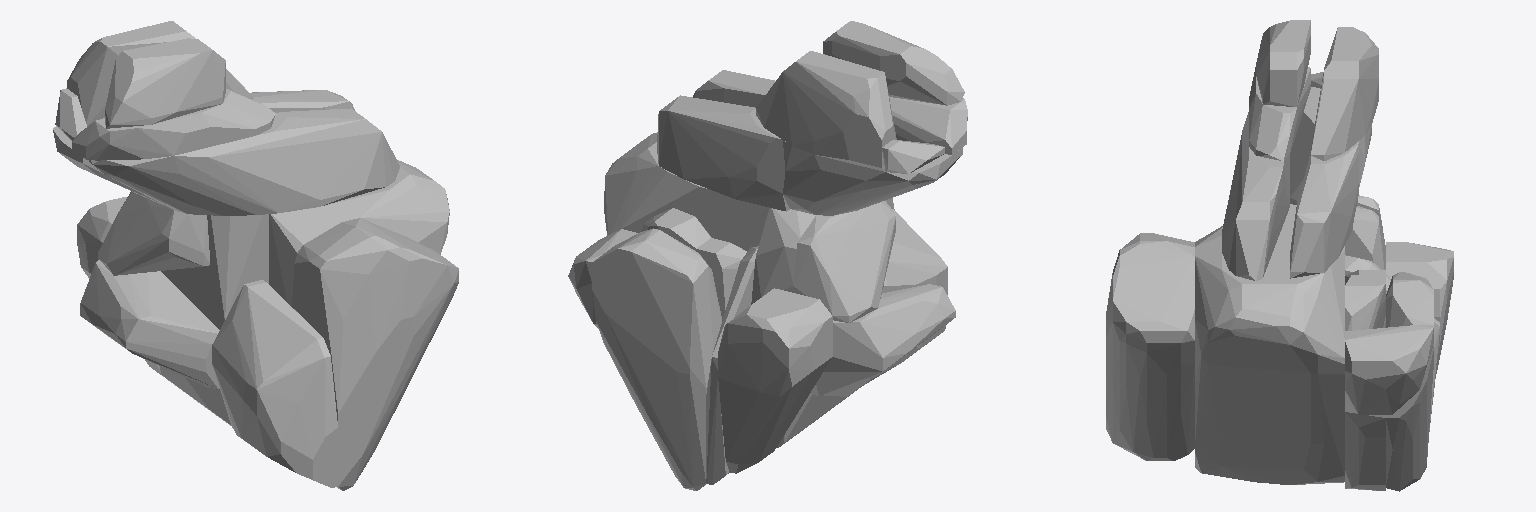
URDF robot description (root):
<robot name="root">
  <link name="link_part3_convex_piece_0">
    <inertial>
      <origin rpy="0 0 0" xyz="0 0 0"/>
      <mass value="3.71E-06"/>
      <inertia ixx="3.64E-09" ixy="6.95E-10" ixz="7.77E-10" iyy="2.02E-09" iyz="1.86E-09" izz="2.27E-09"/>
    </inertial>
    <visual>
      <origin rpy="0 0 0" xyz="0 0 0"/>
      <geometry>
        <mesh filename="part3_convex_piece_0.obj" scale="1.0000E+00"/>
      </geometry>
      <material name="">
        <color rgba="7.50E-01 7.50E-01 7.50E-01 1"/>
      </material>
    </visual>
    <collision>
      <origin rpy="0 0 0" xyz="0 0 0"/>
      <geometry>
        <mesh filename="part3_convex_piece_0.obj" scale="1.0000E+00"/>
      </geometry>
    </collision>
  </link>
  <link name="link_part3_convex_piece_1">
    <inertial>
      <origin rpy="0 0 0" xyz="0 0 0"/>
      <mass value="7.82E-06"/>
      <inertia ixx="7.58E-09" ixy="-1.93E-09" ixz="-4.35E-10" iyy="2.85E-09" iyz="2.68E-09" izz="6.88E-09"/>
    </inertial>
    <visual>
      <origin rpy="0 0 0" xyz="0 0 0"/>
      <geometry>
        <mesh filename="part3_convex_piece_1.obj" scale="1.0000E+00"/>
      </geometry>
      <material name="">
        <color rgba="7.50E-01 7.50E-01 7.50E-01 1"/>
      </material>
    </visual>
    <collision>
      <origin rpy="0 0 0" xyz="0 0 0"/>
      <geometry>
        <mesh filename="part3_convex_piece_1.obj" scale="1.0000E+00"/>
      </geometry>
    </collision>
  </link>
  <joint name="link_part3_convex_piece_1_joint" type="fixed">
    <origin rpy="0 0 0" xyz="0 0 0"/>
    <parent link="link_part3_convex_piece_0"/>
    <child link="link_part3_convex_piece_1"/>
  </joint>
  <link name="link_part3_convex_piece_2">
    <inertial>
      <origin rpy="0 0 0" xyz="0 0 0"/>
      <mass value="3.24E-06"/>
      <inertia ixx="1.11E-09" ixy="-6.80E-11" ixz="-9.00E-11" iyy="1.72E-09" iyz="-1.80E-10" izz="7.63E-10"/>
    </inertial>
    <visual>
      <origin rpy="0 0 0" xyz="0 0 0"/>
      <geometry>
        <mesh filename="part3_convex_piece_2.obj" scale="1.0000E+00"/>
      </geometry>
      <material name="">
        <color rgba="7.50E-01 7.50E-01 7.50E-01 1"/>
      </material>
    </visual>
    <collision>
      <origin rpy="0 0 0" xyz="0 0 0"/>
      <geometry>
        <mesh filename="part3_convex_piece_2.obj" scale="1.0000E+00"/>
      </geometry>
    </collision>
  </link>
  <joint name="link_part3_convex_piece_2_joint" type="fixed">
    <origin rpy="0 0 0" xyz="0 0 0"/>
    <parent link="link_part3_convex_piece_1"/>
    <child link="link_part3_convex_piece_2"/>
  </joint>
  <link name="link_part3_convex_piece_3">
    <inertial>
      <origin rpy="0 0 0" xyz="0 0 0"/>
      <mass value="2.45E-06"/>
      <inertia ixx="2.73E-09" ixy="-8.19E-10" ixz="4.37E-10" iyy="9.75E-10" iyz="-1.09E-09" izz="2.47E-09"/>
    </inertial>
    <visual>
      <origin rpy="0 0 0" xyz="0 0 0"/>
      <geometry>
        <mesh filename="part3_convex_piece_3.obj" scale="1.0000E+00"/>
      </geometry>
      <material name="">
        <color rgba="7.50E-01 7.50E-01 7.50E-01 1"/>
      </material>
    </visual>
    <collision>
      <origin rpy="0 0 0" xyz="0 0 0"/>
      <geometry>
        <mesh filename="part3_convex_piece_3.obj" scale="1.0000E+00"/>
      </geometry>
    </collision>
  </link>
  <joint name="link_part3_convex_piece_3_joint" type="fixed">
    <origin rpy="0 0 0" xyz="0 0 0"/>
    <parent link="link_part3_convex_piece_2"/>
    <child link="link_part3_convex_piece_3"/>
  </joint>
  <link name="link_part3_convex_piece_4">
    <inertial>
      <origin rpy="0 0 0" xyz="0 0 0"/>
      <mass value="2.07E-05"/>
      <inertia ixx="7.30E-09" ixy="-4.03E-10" ixz="-1.77E-09" iyy="1.11E-08" iyz="6.46E-10" izz="7.10E-09"/>
    </inertial>
    <visual>
      <origin rpy="0 0 0" xyz="0 0 0"/>
      <geometry>
        <mesh filename="part3_convex_piece_4.obj" scale="1.0000E+00"/>
      </geometry>
      <material name="">
        <color rgba="7.50E-01 7.50E-01 7.50E-01 1"/>
      </material>
    </visual>
    <collision>
      <origin rpy="0 0 0" xyz="0 0 0"/>
      <geometry>
        <mesh filename="part3_convex_piece_4.obj" scale="1.0000E+00"/>
      </geometry>
    </collision>
  </link>
  <joint name="link_part3_convex_piece_4_joint" type="fixed">
    <origin rpy="0 0 0" xyz="0 0 0"/>
    <parent link="link_part3_convex_piece_3"/>
    <child link="link_part3_convex_piece_4"/>
  </joint>
  <link name="link_part3_convex_piece_5">
    <inertial>
      <origin rpy="0 0 0" xyz="0 0 0"/>
      <mass value="2.13E-06"/>
      <inertia ixx="1.10E-09" ixy="-4.74E-10" ixz="-9.43E-10" iyy="1.88E-09" iyz="5.32E-10" izz="1.34E-09"/>
    </inertial>
    <visual>
      <origin rpy="0 0 0" xyz="0 0 0"/>
      <geometry>
        <mesh filename="part3_convex_piece_5.obj" scale="1.0000E+00"/>
      </geometry>
      <material name="">
        <color rgba="7.50E-01 7.50E-01 7.50E-01 1"/>
      </material>
    </visual>
    <collision>
      <origin rpy="0 0 0" xyz="0 0 0"/>
      <geometry>
        <mesh filename="part3_convex_piece_5.obj" scale="1.0000E+00"/>
      </geometry>
    </collision>
  </link>
  <joint name="link_part3_convex_piece_5_joint" type="fixed">
    <origin rpy="0 0 0" xyz="0 0 0"/>
    <parent link="link_part3_convex_piece_4"/>
    <child link="link_part3_convex_piece_5"/>
  </joint>
  <link name="link_part3_convex_piece_6">
    <inertial>
      <origin rpy="0 0 0" xyz="0 0 0"/>
      <mass value="1.85E-06"/>
      <inertia ixx="7.39E-10" ixy="1.10E-10" ixz="3.08E-10" iyy="8.20E-10" iyz="3.80E-10" izz="4.65E-10"/>
    </inertial>
    <visual>
      <origin rpy="0 0 0" xyz="0 0 0"/>
      <geometry>
        <mesh filename="part3_convex_piece_6.obj" scale="1.0000E+00"/>
      </geometry>
      <material name="">
        <color rgba="7.50E-01 7.50E-01 7.50E-01 1"/>
      </material>
    </visual>
    <collision>
      <origin rpy="0 0 0" xyz="0 0 0"/>
      <geometry>
        <mesh filename="part3_convex_piece_6.obj" scale="1.0000E+00"/>
      </geometry>
    </collision>
  </link>
  <joint name="link_part3_convex_piece_6_joint" type="fixed">
    <origin rpy="0 0 0" xyz="0 0 0"/>
    <parent link="link_part3_convex_piece_5"/>
    <child link="link_part3_convex_piece_6"/>
  </joint>
  <link name="link_part3_convex_piece_7">
    <inertial>
      <origin rpy="0 0 0" xyz="0 0 0"/>
      <mass value="1.07E-06"/>
      <inertia ixx="9.58E-10" ixy="-8.38E-12" ixz="-6.61E-10" iyy="1.50E-09" iyz="1.30E-11" izz="5.58E-10"/>
    </inertial>
    <visual>
      <origin rpy="0 0 0" xyz="0 0 0"/>
      <geometry>
        <mesh filename="part3_convex_piece_7.obj" scale="1.0000E+00"/>
      </geometry>
      <material name="">
        <color rgba="7.50E-01 7.50E-01 7.50E-01 1"/>
      </material>
    </visual>
    <collision>
      <origin rpy="0 0 0" xyz="0 0 0"/>
      <geometry>
        <mesh filename="part3_convex_piece_7.obj" scale="1.0000E+00"/>
      </geometry>
    </collision>
  </link>
  <joint name="link_part3_convex_piece_7_joint" type="fixed">
    <origin rpy="0 0 0" xyz="0 0 0"/>
    <parent link="link_part3_convex_piece_6"/>
    <child link="link_part3_convex_piece_7"/>
  </joint>
  <link name="link_part3_convex_piece_8">
    <inertial>
      <origin rpy="0 0 0" xyz="0 0 0"/>
      <mass value="9.63E-07"/>
      <inertia ixx="1.51E-09" ixy="-2.41E-11" ixz="-8.05E-10" iyy="1.98E-09" iyz="6.08E-11" izz="4.74E-10"/>
    </inertial>
    <visual>
      <origin rpy="0 0 0" xyz="0 0 0"/>
      <geometry>
        <mesh filename="part3_convex_piece_8.obj" scale="1.0000E+00"/>
      </geometry>
      <material name="">
        <color rgba="7.50E-01 7.50E-01 7.50E-01 1"/>
      </material>
    </visual>
    <collision>
      <origin rpy="0 0 0" xyz="0 0 0"/>
      <geometry>
        <mesh filename="part3_convex_piece_8.obj" scale="1.0000E+00"/>
      </geometry>
    </collision>
  </link>
  <joint name="link_part3_convex_piece_8_joint" type="fixed">
    <origin rpy="0 0 0" xyz="0 0 0"/>
    <parent link="link_part3_convex_piece_7"/>
    <child link="link_part3_convex_piece_8"/>
  </joint>
  <link name="link_part3_convex_piece_9">
    <inertial>
      <origin rpy="0 0 0" xyz="0 0 0"/>
      <mass value="9.02E-08"/>
      <inertia ixx="9.41E-11" ixy="-4.68E-11" ixz="-9.19E-11" iyy="1.81E-10" iyz="4.21E-11" izz="1.29E-10"/>
    </inertial>
    <visual>
      <origin rpy="0 0 0" xyz="0 0 0"/>
      <geometry>
        <mesh filename="part3_convex_piece_9.obj" scale="1.0000E+00"/>
      </geometry>
      <material name="">
        <color rgba="7.50E-01 7.50E-01 7.50E-01 1"/>
      </material>
    </visual>
    <collision>
      <origin rpy="0 0 0" xyz="0 0 0"/>
      <geometry>
        <mesh filename="part3_convex_piece_9.obj" scale="1.0000E+00"/>
      </geometry>
    </collision>
  </link>
  <joint name="link_part3_convex_piece_9_joint" type="fixed">
    <origin rpy="0 0 0" xyz="0 0 0"/>
    <parent link="link_part3_convex_piece_8"/>
    <child link="link_part3_convex_piece_9"/>
  </joint>
  <link name="link_part3_convex_piece_10">
    <inertial>
      <origin rpy="0 0 0" xyz="0 0 0"/>
      <mass value="1.71E-06"/>
      <inertia ixx="2.42E-09" ixy="-4.60E-10" ixz="-1.01E-09" iyy="2.64E-09" iyz="9.26E-10" izz="9.83E-10"/>
    </inertial>
    <visual>
      <origin rpy="0 0 0" xyz="0 0 0"/>
      <geometry>
        <mesh filename="part3_convex_piece_10.obj" scale="1.0000E+00"/>
      </geometry>
      <material name="">
        <color rgba="7.50E-01 7.50E-01 7.50E-01 1"/>
      </material>
    </visual>
    <collision>
      <origin rpy="0 0 0" xyz="0 0 0"/>
      <geometry>
        <mesh filename="part3_convex_piece_10.obj" scale="1.0000E+00"/>
      </geometry>
    </collision>
  </link>
  <joint name="link_part3_convex_piece_10_joint" type="fixed">
    <origin rpy="0 0 0" xyz="0 0 0"/>
    <parent link="link_part3_convex_piece_9"/>
    <child link="link_part3_convex_piece_10"/>
  </joint>
  <link name="link_part3_convex_piece_11">
    <inertial>
      <origin rpy="0 0 0" xyz="0 0 0"/>
      <mass value="6.06E-06"/>
      <inertia ixx="2.27E-09" ixy="-3.36E-10" ixz="6.91E-10" iyy="1.95E-09" iyz="-4.06E-10" izz="1.13E-09"/>
    </inertial>
    <visual>
      <origin rpy="0 0 0" xyz="0 0 0"/>
      <geometry>
        <mesh filename="part3_convex_piece_11.obj" scale="1.0000E+00"/>
      </geometry>
      <material name="">
        <color rgba="7.50E-01 7.50E-01 7.50E-01 1"/>
      </material>
    </visual>
    <collision>
      <origin rpy="0 0 0" xyz="0 0 0"/>
      <geometry>
        <mesh filename="part3_convex_piece_11.obj" scale="1.0000E+00"/>
      </geometry>
    </collision>
  </link>
  <joint name="link_part3_convex_piece_11_joint" type="fixed">
    <origin rpy="0 0 0" xyz="0 0 0"/>
    <parent link="link_part3_convex_piece_10"/>
    <child link="link_part3_convex_piece_11"/>
  </joint>
  <link name="link_part3_convex_piece_12">
    <inertial>
      <origin rpy="0 0 0" xyz="0 0 0"/>
      <mass value="1.20E-06"/>
      <inertia ixx="1.26E-09" ixy="-2.70E-11" ixz="4.12E-11" iyy="5.97E-10" iyz="-5.92E-10" izz="6.63E-10"/>
    </inertial>
    <visual>
      <origin rpy="0 0 0" xyz="0 0 0"/>
      <geometry>
        <mesh filename="part3_convex_piece_12.obj" scale="1.0000E+00"/>
      </geometry>
      <material name="">
        <color rgba="7.50E-01 7.50E-01 7.50E-01 1"/>
      </material>
    </visual>
    <collision>
      <origin rpy="0 0 0" xyz="0 0 0"/>
      <geometry>
        <mesh filename="part3_convex_piece_12.obj" scale="1.0000E+00"/>
      </geometry>
    </collision>
  </link>
  <joint name="link_part3_convex_piece_12_joint" type="fixed">
    <origin rpy="0 0 0" xyz="0 0 0"/>
    <parent link="link_part3_convex_piece_11"/>
    <child link="link_part3_convex_piece_12"/>
  </joint>
  <link name="link_part3_convex_piece_13">
    <inertial>
      <origin rpy="0 0 0" xyz="0 0 0"/>
      <mass value="2.89E-06"/>
      <inertia ixx="7.72E-10" ixy="-4.47E-10" ixz="9.22E-10" iyy="1.79E-09" iyz="-2.40E-10" izz="1.70E-09"/>
    </inertial>
    <visual>
      <origin rpy="0 0 0" xyz="0 0 0"/>
      <geometry>
        <mesh filename="part3_convex_piece_13.obj" scale="1.0000E+00"/>
      </geometry>
      <material name="">
        <color rgba="7.50E-01 7.50E-01 7.50E-01 1"/>
      </material>
    </visual>
    <collision>
      <origin rpy="0 0 0" xyz="0 0 0"/>
      <geometry>
        <mesh filename="part3_convex_piece_13.obj" scale="1.0000E+00"/>
      </geometry>
    </collision>
  </link>
  <joint name="link_part3_convex_piece_13_joint" type="fixed">
    <origin rpy="0 0 0" xyz="0 0 0"/>
    <parent link="link_part3_convex_piece_12"/>
    <child link="link_part3_convex_piece_13"/>
  </joint>
  <link name="link_part3_convex_piece_14">
    <inertial>
      <origin rpy="0 0 0" xyz="0 0 0"/>
      <mass value="1.33E-06"/>
      <inertia ixx="1.23E-10" ixy="-2.55E-10" ixz="-2.42E-11" iyy="3.46E-10" iyz="3.89E-11" izz="6.31E-10"/>
    </inertial>
    <visual>
      <origin rpy="0 0 0" xyz="0 0 0"/>
      <geometry>
        <mesh filename="part3_convex_piece_14.obj" scale="1.0000E+00"/>
      </geometry>
      <material name="">
        <color rgba="7.50E-01 7.50E-01 7.50E-01 1"/>
      </material>
    </visual>
    <collision>
      <origin rpy="0 0 0" xyz="0 0 0"/>
      <geometry>
        <mesh filename="part3_convex_piece_14.obj" scale="1.0000E+00"/>
      </geometry>
    </collision>
  </link>
  <joint name="link_part3_convex_piece_14_joint" type="fixed">
    <origin rpy="0 0 0" xyz="0 0 0"/>
    <parent link="link_part3_convex_piece_13"/>
    <child link="link_part3_convex_piece_14"/>
  </joint>
  <link name="link_part3_convex_piece_15">
    <inertial>
      <origin rpy="0 0 0" xyz="0 0 0"/>
      <mass value="7.50E-07"/>
      <inertia ixx="4.00E-10" ixy="4.96E-10" ixz="-1.78E-10" iyy="6.67E-10" iyz="-1.31E-10" izz="1.05E-09"/>
    </inertial>
    <visual>
      <origin rpy="0 0 0" xyz="0 0 0"/>
      <geometry>
        <mesh filename="part3_convex_piece_15.obj" scale="1.0000E+00"/>
      </geometry>
      <material name="">
        <color rgba="7.50E-01 7.50E-01 7.50E-01 1"/>
      </material>
    </visual>
    <collision>
      <origin rpy="0 0 0" xyz="0 0 0"/>
      <geometry>
        <mesh filename="part3_convex_piece_15.obj" scale="1.0000E+00"/>
      </geometry>
    </collision>
  </link>
  <joint name="link_part3_convex_piece_15_joint" type="fixed">
    <origin rpy="0 0 0" xyz="0 0 0"/>
    <parent link="link_part3_convex_piece_14"/>
    <child link="link_part3_convex_piece_15"/>
  </joint>
  <link name="link_part3_convex_piece_16">
    <inertial>
      <origin rpy="0 0 0" xyz="0 0 0"/>
      <mass value="3.70E-06"/>
      <inertia ixx="4.29E-09" ixy="1.31E-09" ixz="-6.70E-10" iyy="2.18E-09" iyz="-1.73E-09" izz="3.62E-09"/>
    </inertial>
    <visual>
      <origin rpy="0 0 0" xyz="0 0 0"/>
      <geometry>
        <mesh filename="part3_convex_piece_16.obj" scale="1.0000E+00"/>
      </geometry>
      <material name="">
        <color rgba="7.50E-01 7.50E-01 7.50E-01 1"/>
      </material>
    </visual>
    <collision>
      <origin rpy="0 0 0" xyz="0 0 0"/>
      <geometry>
        <mesh filename="part3_convex_piece_16.obj" scale="1.0000E+00"/>
      </geometry>
    </collision>
  </link>
  <joint name="link_part3_convex_piece_16_joint" type="fixed">
    <origin rpy="0 0 0" xyz="0 0 0"/>
    <parent link="link_part3_convex_piece_15"/>
    <child link="link_part3_convex_piece_16"/>
  </joint>
  <link name="link_part3_convex_piece_17">
    <inertial>
      <origin rpy="0 0 0" xyz="0 0 0"/>
      <mass value="1.09E-06"/>
      <inertia ixx="1.34E-09" ixy="3.20E-10" ixz="-4.63E-10" iyy="1.29E-09" iyz="-5.80E-10" izz="6.84E-10"/>
    </inertial>
    <visual>
      <origin rpy="0 0 0" xyz="0 0 0"/>
      <geometry>
        <mesh filename="part3_convex_piece_17.obj" scale="1.0000E+00"/>
      </geometry>
      <material name="">
        <color rgba="7.50E-01 7.50E-01 7.50E-01 1"/>
      </material>
    </visual>
    <collision>
      <origin rpy="0 0 0" xyz="0 0 0"/>
      <geometry>
        <mesh filename="part3_convex_piece_17.obj" scale="1.0000E+00"/>
      </geometry>
    </collision>
  </link>
  <joint name="link_part3_convex_piece_17_joint" type="fixed">
    <origin rpy="0 0 0" xyz="0 0 0"/>
    <parent link="link_part3_convex_piece_16"/>
    <child link="link_part3_convex_piece_17"/>
  </joint>
  <link name="link_part3_convex_piece_18">
    <inertial>
      <origin rpy="0 0 0" xyz="0 0 0"/>
      <mass value="6.72E-07"/>
      <inertia ixx="3.08E-10" ixy="5.87E-11" ixz="-2.53E-11" iyy="9.92E-11" iyz="-1.31E-10" izz="2.43E-10"/>
    </inertial>
    <visual>
      <origin rpy="0 0 0" xyz="0 0 0"/>
      <geometry>
        <mesh filename="part3_convex_piece_18.obj" scale="1.0000E+00"/>
      </geometry>
      <material name="">
        <color rgba="7.50E-01 7.50E-01 7.50E-01 1"/>
      </material>
    </visual>
    <collision>
      <origin rpy="0 0 0" xyz="0 0 0"/>
      <geometry>
        <mesh filename="part3_convex_piece_18.obj" scale="1.0000E+00"/>
      </geometry>
    </collision>
  </link>
  <joint name="link_part3_convex_piece_18_joint" type="fixed">
    <origin rpy="0 0 0" xyz="0 0 0"/>
    <parent link="link_part3_convex_piece_17"/>
    <child link="link_part3_convex_piece_18"/>
  </joint>
  <link name="link_part3_convex_piece_19">
    <inertial>
      <origin rpy="0 0 0" xyz="0 0 0"/>
      <mass value="7.67E-07"/>
      <inertia ixx="2.06E-10" ixy="2.17E-10" ixz="-2.62E-11" iyy="1.71E-10" iyz="-2.91E-11" izz="4.60E-10"/>
    </inertial>
    <visual>
      <origin rpy="0 0 0" xyz="0 0 0"/>
      <geometry>
        <mesh filename="part3_convex_piece_19.obj" scale="1.0000E+00"/>
      </geometry>
      <material name="">
        <color rgba="7.50E-01 7.50E-01 7.50E-01 1"/>
      </material>
    </visual>
    <collision>
      <origin rpy="0 0 0" xyz="0 0 0"/>
      <geometry>
        <mesh filename="part3_convex_piece_19.obj" scale="1.0000E+00"/>
      </geometry>
    </collision>
  </link>
  <joint name="link_part3_convex_piece_19_joint" type="fixed">
    <origin rpy="0 0 0" xyz="0 0 0"/>
    <parent link="link_part3_convex_piece_18"/>
    <child link="link_part3_convex_piece_19"/>
  </joint>
  <link name="link_part3_convex_piece_20">
    <inertial>
      <origin rpy="0 0 0" xyz="0 0 0"/>
      <mass value="1.34E-07"/>
      <inertia ixx="6.12E-11" ixy="2.64E-11" ixz="-2.42E-11" iyy="4.45E-11" iyz="-3.35E-11" izz="5.67E-11"/>
    </inertial>
    <visual>
      <origin rpy="0 0 0" xyz="0 0 0"/>
      <geometry>
        <mesh filename="part3_convex_piece_20.obj" scale="1.0000E+00"/>
      </geometry>
      <material name="">
        <color rgba="7.50E-01 7.50E-01 7.50E-01 1"/>
      </material>
    </visual>
    <collision>
      <origin rpy="0 0 0" xyz="0 0 0"/>
      <geometry>
        <mesh filename="part3_convex_piece_20.obj" scale="1.0000E+00"/>
      </geometry>
    </collision>
  </link>
  <joint name="link_part3_convex_piece_20_joint" type="fixed">
    <origin rpy="0 0 0" xyz="0 0 0"/>
    <parent link="link_part3_convex_piece_19"/>
    <child link="link_part3_convex_piece_20"/>
  </joint>
</robot>

--- Facts derived from the render (not from the file) ---
The picture shows the robot from 3 angles, left to right: view 1: azimuth 30°, elevation 25°; view 2: azimuth 150°, elevation 25°; view 3: azimuth 270°, elevation 25°; orthographic projection.
Model root with 21 links and 20 joints (20 fixed), rooted at link_part3_convex_piece_0, posed all joints at 0.
Links seen in each view (by area): view 1: link_part3_convex_piece_1, link_part3_convex_piece_2, link_part3_convex_piece_0, link_part3_convex_piece_13, link_part3_convex_piece_4, link_part3_convex_piece_8, link_part3_convex_piece_11, link_part3_convex_piece_7, link_part3_convex_piece_14, link_part3_convex_piece_10, link_part3_convex_piece_3, link_part3_convex_piece_6 (+2 smaller); view 2: link_part3_convex_piece_16, link_part3_convex_piece_3, link_part3_convex_piece_10, link_part3_convex_piece_6, link_part3_convex_piece_14, link_part3_convex_piece_4, link_part3_convex_piece_13, link_part3_convex_piece_5, link_part3_convex_piece_8, link_part3_convex_piece_11, link_part3_convex_piece_12, link_part3_convex_piece_7 (+6 smaller); view 3: link_part3_convex_piece_4, link_part3_convex_piece_1, link_part3_convex_piece_2, link_part3_convex_piece_15, link_part3_convex_piece_10, link_part3_convex_piece_6, link_part3_convex_piece_16, link_part3_convex_piece_8, link_part3_convex_piece_17, link_part3_convex_piece_3, link_part3_convex_piece_7, link_part3_convex_piece_19 (+3 smaller).
Link boxes in pixels (<box>): link_part3_convex_piece_1: <box>292,218,458,490</box>; link_part3_convex_piece_2: <box>89,108,399,215</box>; link_part3_convex_piece_0: <box>212,280,337,487</box>; link_part3_convex_piece_13: <box>80,260,219,388</box>; link_part3_convex_piece_4: <box>269,160,449,306</box>; link_part3_convex_piece_8: <box>105,38,225,128</box>; link_part3_convex_piece_11: <box>160,214,268,425</box>; link_part3_convex_piece_7: <box>72,89,275,160</box>; link_part3_convex_piece_14: <box>98,191,209,275</box>; link_part3_convex_piece_10: <box>67,21,253,126</box>; link_part3_convex_piece_3: <box>77,197,160,374</box>; link_part3_convex_piece_6: <box>250,90,354,112</box>; link_part3_convex_piece_16: <box>592,228,721,490</box>; link_part3_convex_piece_3: <box>718,288,832,473</box>; link_part3_convex_piece_10: <box>756,51,896,171</box>; link_part3_convex_piece_6: <box>657,95,789,211</box>; link_part3_convex_piece_14: <box>794,201,895,322</box>; link_part3_convex_piece_4: <box>604,132,769,251</box>; link_part3_convex_piece_13: <box>811,284,955,395</box>; link_part3_convex_piece_5: <box>783,140,962,215</box>; link_part3_convex_piece_8: <box>823,21,964,105</box>; link_part3_convex_piece_11: <box>751,208,869,447</box>; link_part3_convex_piece_12: <box>706,246,758,484</box>; link_part3_convex_piece_7: <box>889,97,967,154</box>; link_part3_convex_piece_4: <box>1195,218,1344,484</box>; link_part3_convex_piece_1: <box>1106,233,1194,460</box>; link_part3_convex_piece_2: <box>1222,112,1289,280</box>; link_part3_convex_piece_15: <box>1345,325,1433,414</box>; link_part3_convex_piece_10: <box>1311,27,1378,160</box>; link_part3_convex_piece_6: <box>1290,141,1358,278</box>; link_part3_convex_piece_16: <box>1386,272,1433,491</box>; link_part3_convex_piece_8: <box>1256,20,1310,106</box>; link_part3_convex_piece_17: <box>1345,400,1385,490</box>; link_part3_convex_piece_3: <box>1386,242,1453,373</box>; link_part3_convex_piece_7: <box>1249,67,1310,160</box>; link_part3_convex_piece_19: <box>1345,275,1385,330</box>.
Bounding box of the posed robot: 0.079 × 0.0746 × 0.0937 m (x, y, z).
Meshes: 21 distinct files referenced, 21 mesh visuals loaded (21 OBJ).